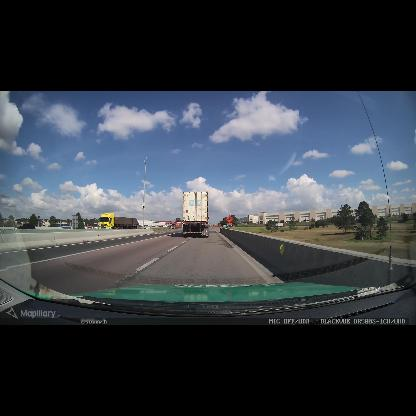A-24: (225, 215, 234, 223)
